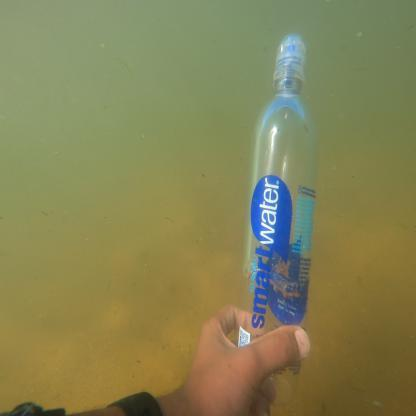Rác: (251, 27, 315, 344)
